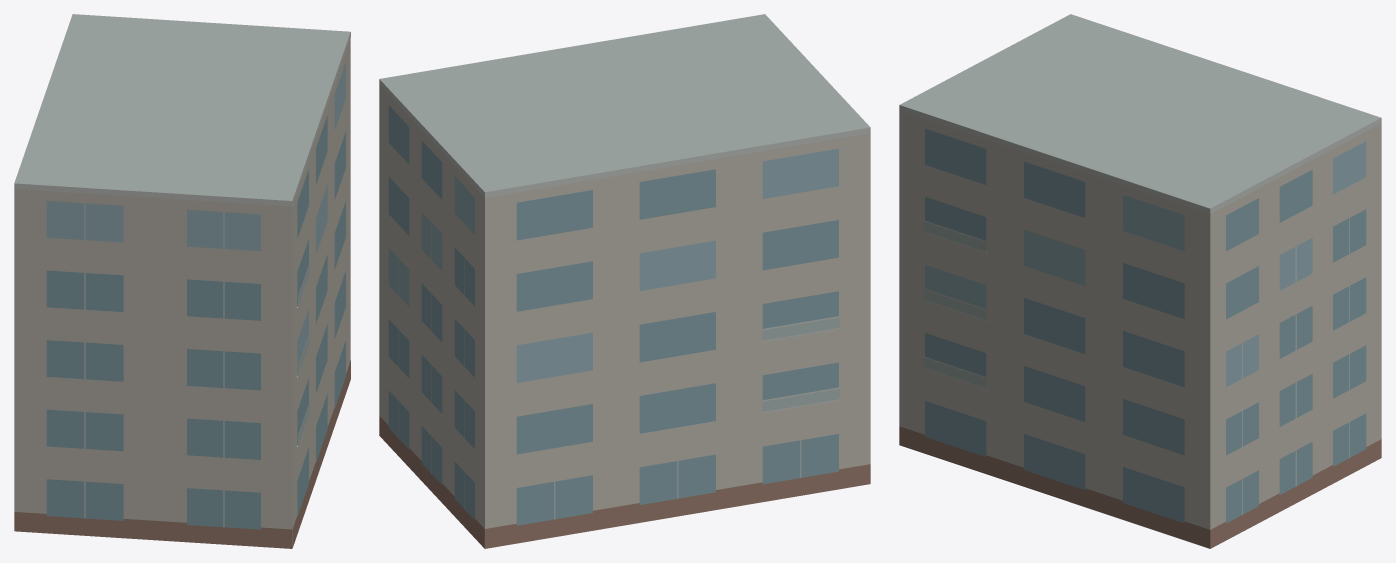
Rendered from survey-upis-32976181.glb.
3 views of the same model, side by side, from view 1: azimuth 30°, elevation 25°; view 2: azimuth 150°, elevation 25°; view 3: azimuth 270°, elevation 25° (orthographic). The views are drawn at different scales.
Parts seen in each view (by area): view 1: survey-upis-32976181.tmp; view 2: survey-upis-32976181.tmp; view 3: survey-upis-32976181.tmp.
Part boxes in pixels (left/top/right/bottom): survey-upis-32976181.tmp: left=14, top=14, right=350, bottom=548; survey-upis-32976181.tmp: left=379, top=14, right=870, bottom=548; survey-upis-32976181.tmp: left=899, top=14, right=1381, bottom=548.
Bounding box in the file's own units: 18.72 × 15.25 × 19.6.
